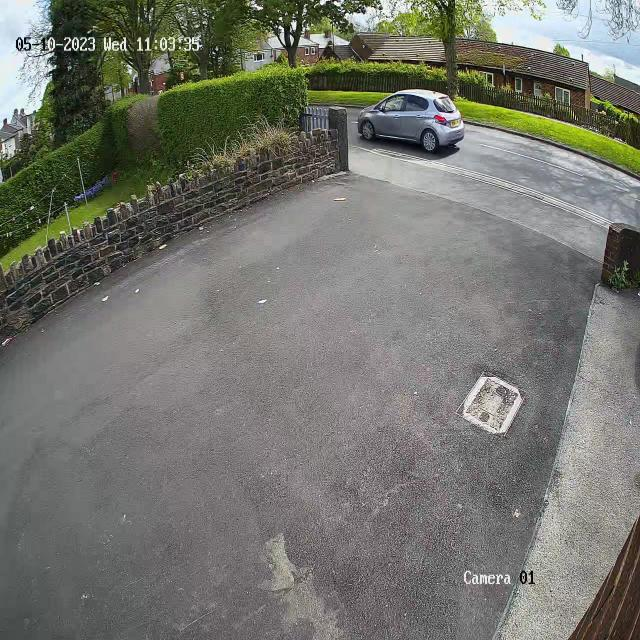vehicle: (358, 76, 470, 164)
